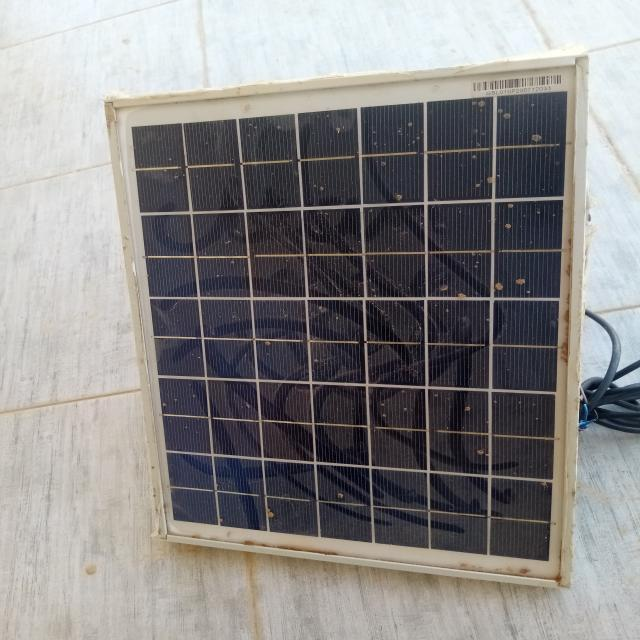faulty: (109, 60, 580, 586)
